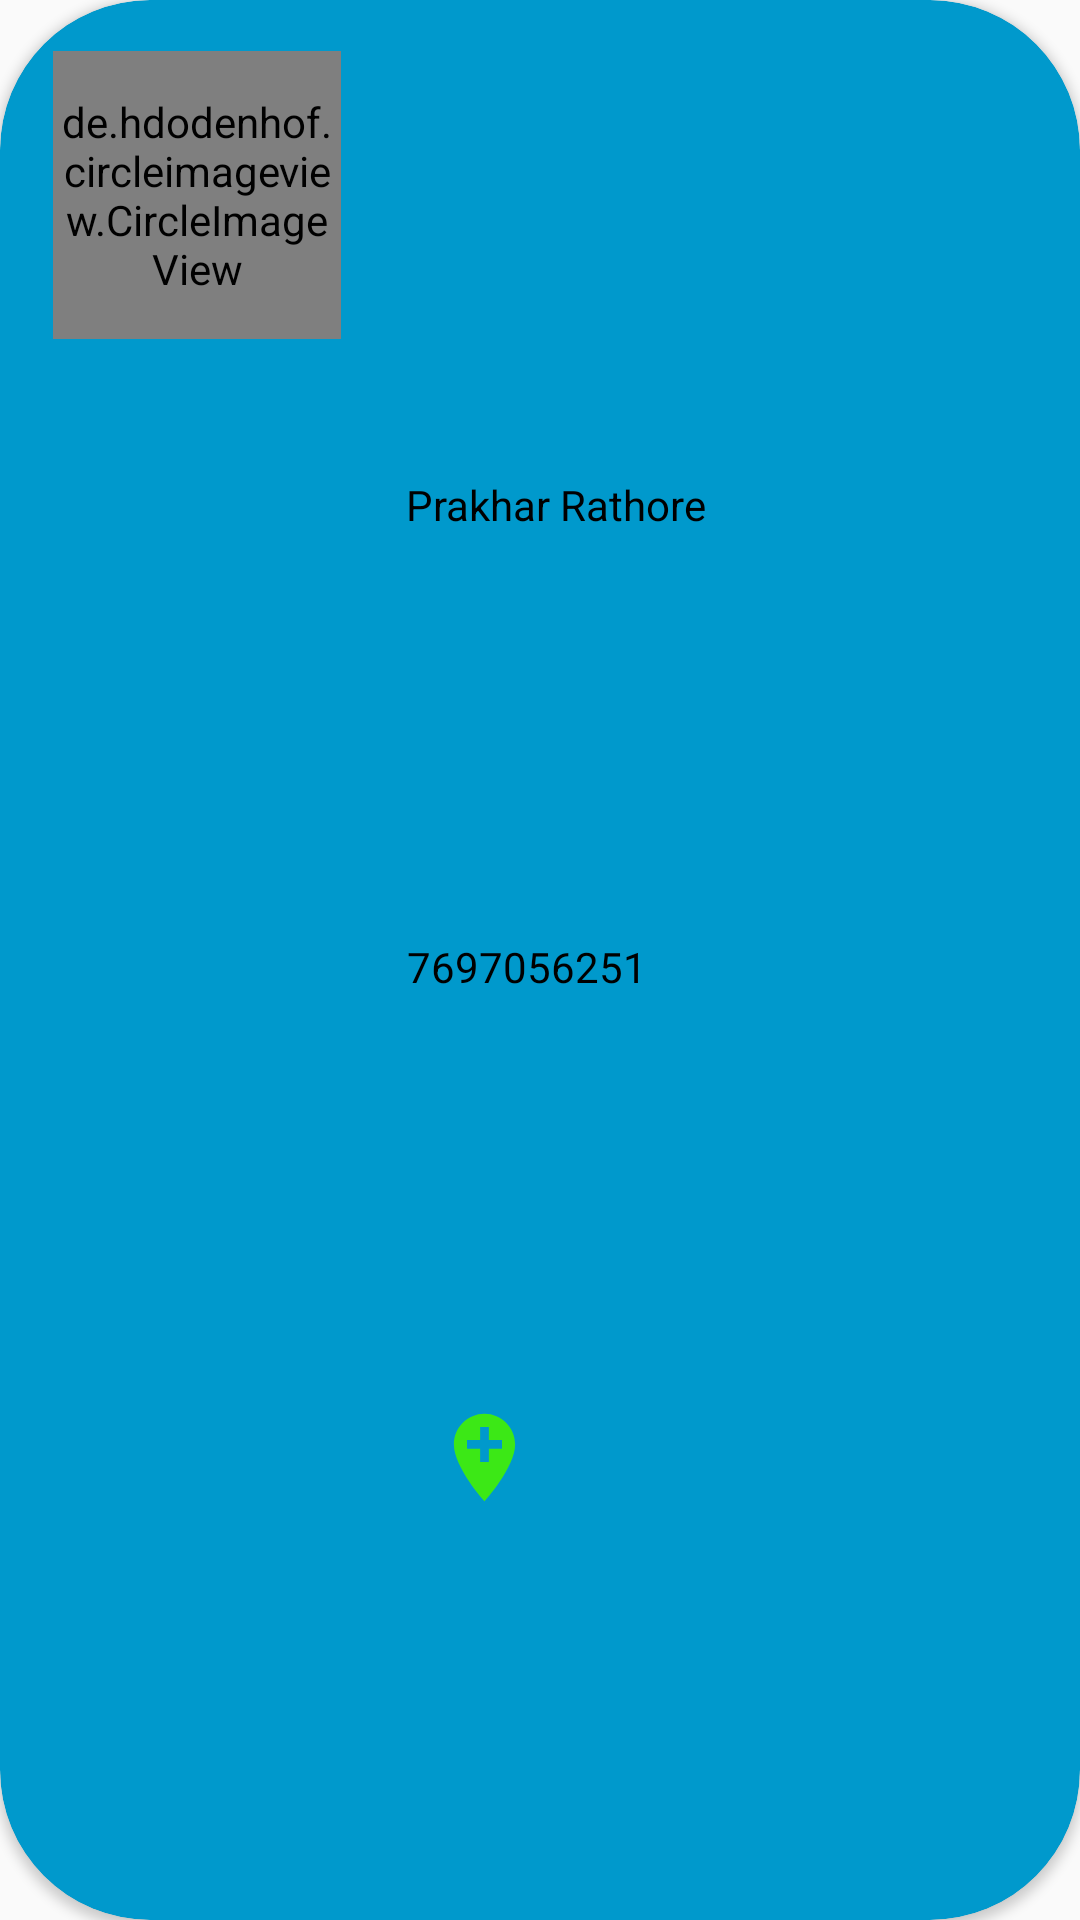

Where to tap for icons on this 1080px x 1920px app screen, as (x=x, y=y):
add location: (x=484, y=1457)
